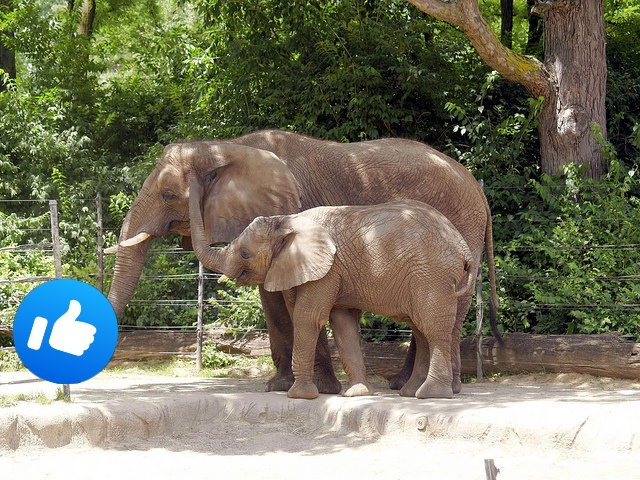like: (13, 279, 118, 384)
